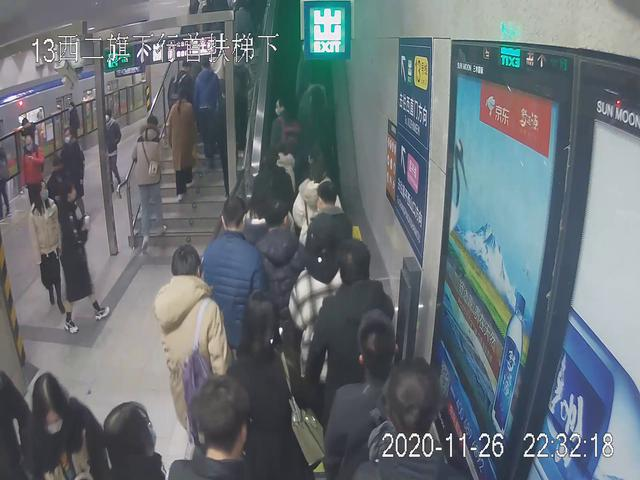person: (152, 246, 238, 460), (201, 197, 264, 379), (250, 200, 306, 363), (54, 187, 112, 330), (125, 115, 171, 252), (30, 181, 66, 312), (163, 90, 203, 198), (193, 57, 231, 166), (19, 132, 49, 225)
